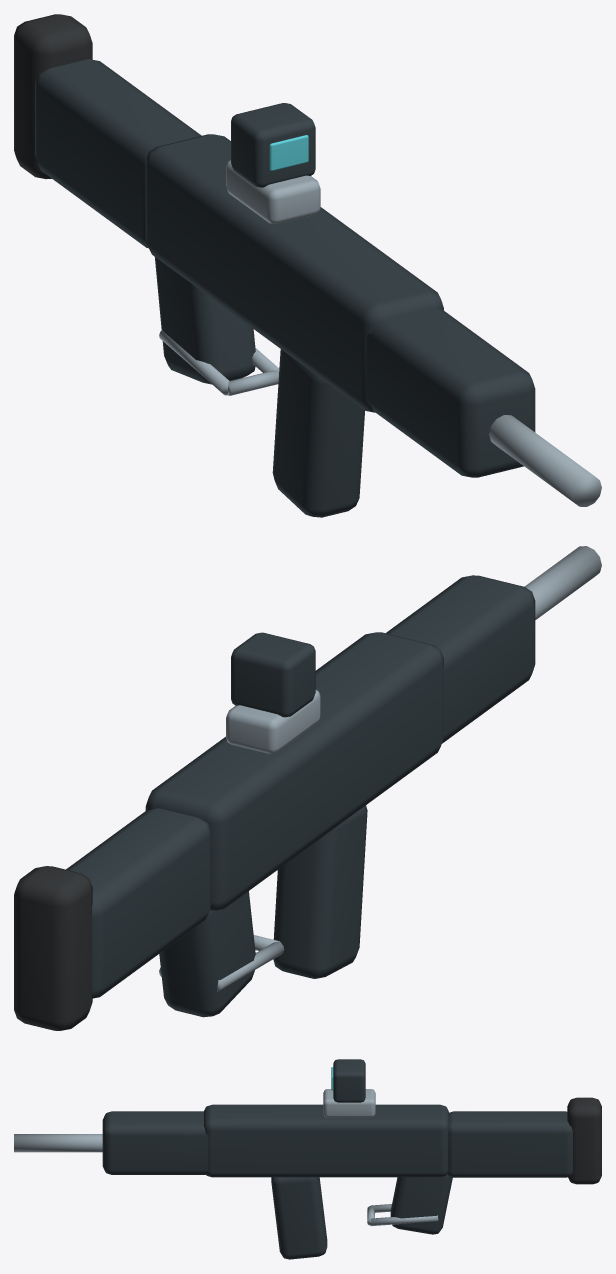
File: rifle.glb
3 views of the same model, one above another, from view 1: azimuth 30°, elevation 25°; view 2: azimuth 150°, elevation 25°; view 3: azimuth 270°, elevation 25° (orthographic). The views are drawn at different scales.
Visible parts, largest first — view 1: RifleReceiver, RifleHandguard, RifleStock, RifleMagazine, RifleGrip, RifleButt, RifleOptic, RifleBarrel, RifleSightBase, RifleOpticGlass, RifleTriggerGuard, RifleGuardFront; view 2: RifleReceiver, RifleStock, RifleHandguard, RifleButt, RifleMagazine, RifleGrip, RifleOptic, RifleSightBase, RifleBarrel, RifleTriggerGuard; view 3: RifleReceiver, RifleStock, RifleHandguard, RifleMagazine, RifleGrip, RifleButt, RifleBarrel, RifleOptic, RifleSightBase, RifleTriggerGuard.001.
Boxes of the visible parts, bbox=[...] form: RifleReceiver: bbox=[145, 134, 443, 412]; RifleHandguard: bbox=[367, 308, 535, 477]; RifleStock: bbox=[35, 59, 201, 248]; RifleMagazine: bbox=[272, 349, 364, 517]; RifleGrip: bbox=[155, 257, 255, 384]; RifleButt: bbox=[14, 14, 92, 179]; RifleOptic: bbox=[231, 103, 315, 187]; RifleBarrel: bbox=[489, 415, 601, 506]; RifleSightBase: bbox=[226, 160, 320, 223]; RifleOpticGlass: bbox=[269, 135, 308, 170]; RifleTriggerGuard: bbox=[159, 329, 229, 395]; RifleGuardFront: bbox=[227, 370, 278, 395]; RifleReceiver: bbox=[145, 632, 443, 910]; RifleStock: bbox=[66, 808, 210, 998]; RifleHandguard: bbox=[386, 575, 535, 743]; RifleButt: bbox=[14, 866, 92, 1030]; RifleMagazine: bbox=[273, 805, 367, 978]; RifleGrip: bbox=[159, 891, 255, 1017]; RifleOptic: bbox=[231, 632, 315, 717]; RifleSightBase: bbox=[226, 689, 320, 753]; RifleBarrel: bbox=[524, 546, 601, 619]; RifleTriggerGuard: bbox=[217, 941, 284, 991]; RifleReceiver: bbox=[204, 1104, 449, 1177]; RifleStock: bbox=[447, 1111, 572, 1177]; RifleHandguard: bbox=[102, 1111, 208, 1174]; RifleMagazine: bbox=[271, 1177, 327, 1259]; RifleGrip: bbox=[390, 1174, 452, 1234]; RifleButt: bbox=[567, 1097, 601, 1184]; RifleBarrel: bbox=[14, 1134, 102, 1152]; RifleOptic: bbox=[333, 1059, 365, 1102]; RifleSightBase: bbox=[323, 1089, 375, 1117]; RifleTriggerGuard.001: bbox=[370, 1215, 438, 1226].
Size of the model in its own units: 0.065 by 0.2722 by 0.7625.
